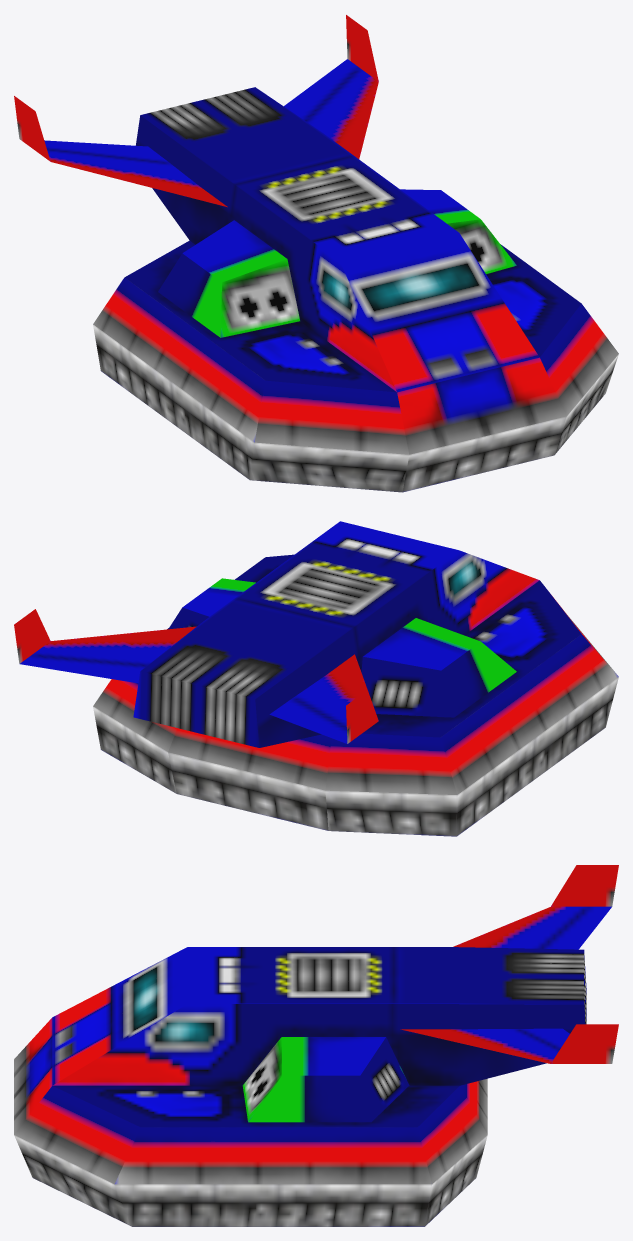
File: harasser.glb
3 views of the same model, one above another, from view 1: azimuth 30°, elevation 25°; view 2: azimuth 150°, elevation 25°; view 3: azimuth 270°, elevation 25° (orthographic).
Parts seen in each view (by area): view 1: harasser; view 2: harasser; view 3: harasser.
Boxes of the visible parts, box(x1,y1,x2,y2) form: harasser: box(14, 15, 618, 492); harasser: box(14, 521, 618, 836); harasser: box(14, 865, 618, 1226).
Bounding box in the file's own units: 3.8 × 2 × 5.57.
1 material, 1 textured.
